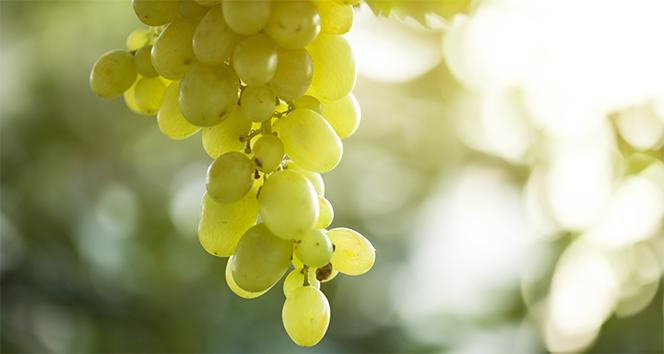Grape: (76, 1, 396, 341), (189, 180, 265, 264), (274, 104, 345, 177), (253, 170, 315, 251), (264, 282, 334, 353), (188, 58, 243, 139)
